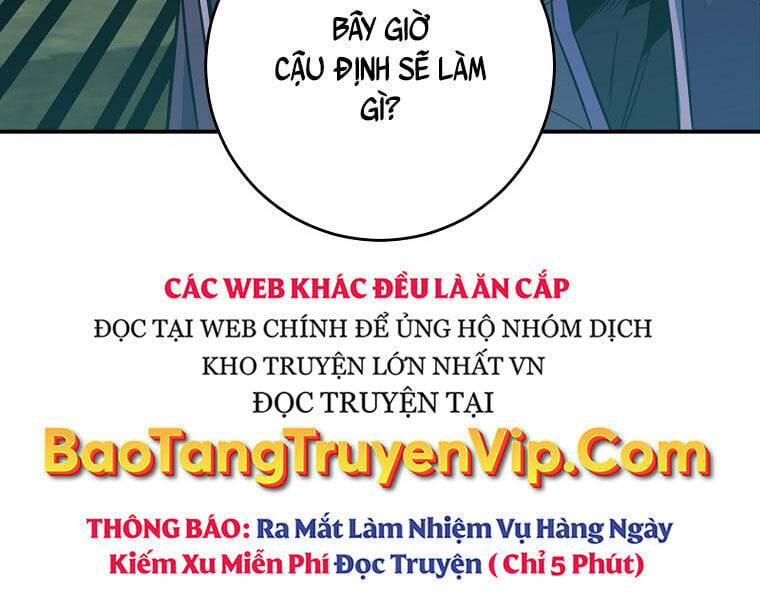quangcao: (44, 271, 715, 587)
